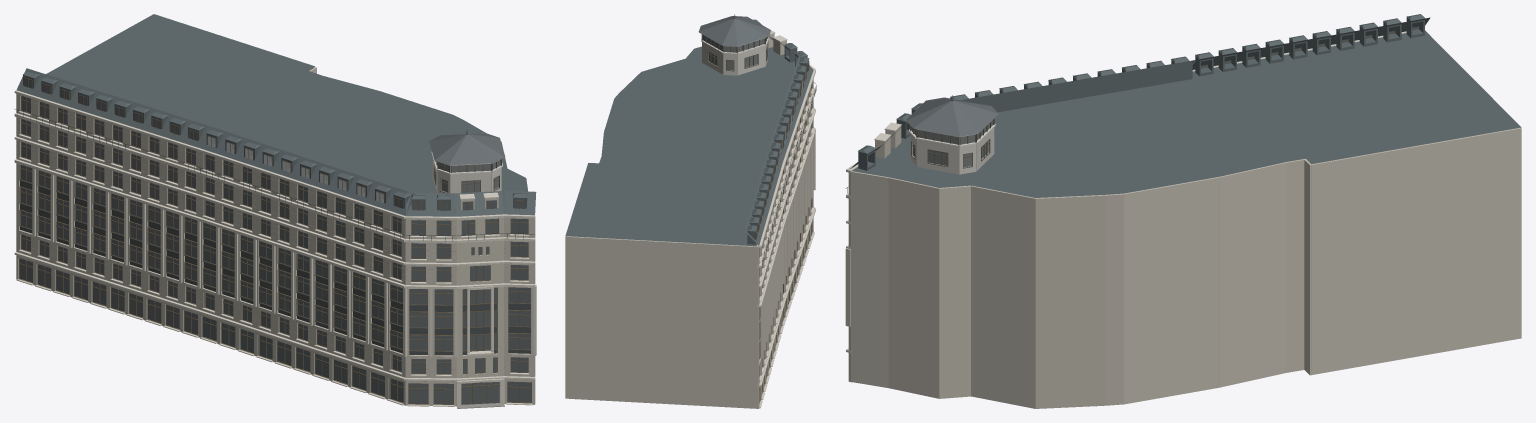
File: 61a-exterior-7f7a5e86ac18.glb
3 views of the same model, side by side, from view 1: azimuth 30°, elevation 25°; view 2: azimuth 150°, elevation 25°; view 3: azimuth 270°, elevation 25° (orthographic). The views are drawn at different scales.
Visible parts, largest first — view 1: 61A.001; view 2: 61A.001; view 3: 61A.001.
Part boxes in pixels (x1,y1,x2,y2): 61A.001: [14, 14, 536, 408]; 61A.001: [565, 14, 816, 408]; 61A.001: [845, 14, 1521, 408].
Size of the model in its own units: 51.25 by 38.48 by 85.72.
